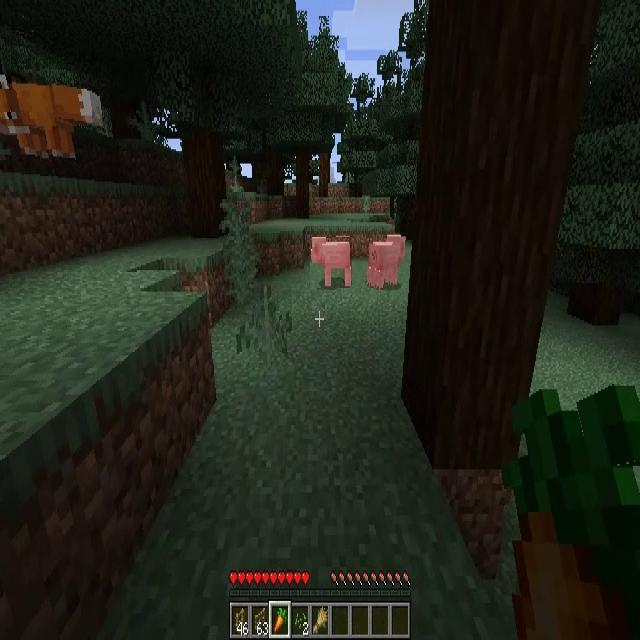pig: (310, 237, 352, 288), (368, 235, 406, 289)
